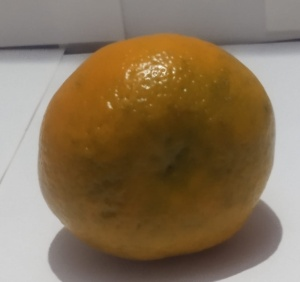BAD: (36, 32, 279, 263)
